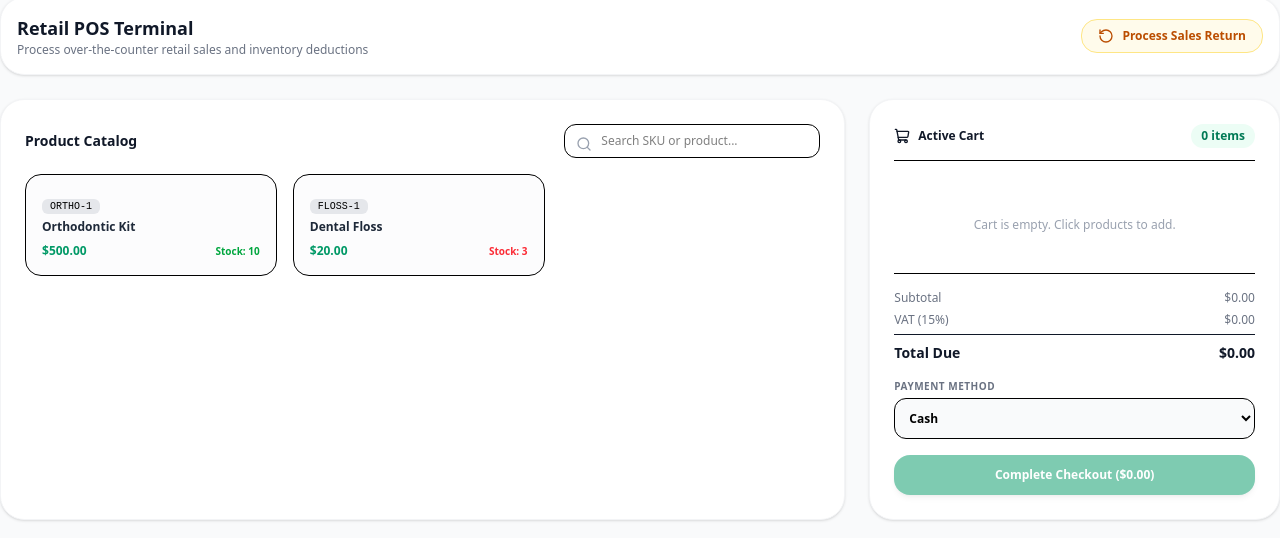
RetailPOSView (FR-SAL-001) › filters the catalog by search text
Expected: the heading "Orthodontic Kit" is shown, [42,218,135,235]
In the field with placeholder "Search SKU or product...": x=692, y=141 [564,124,820,158], type "floss"
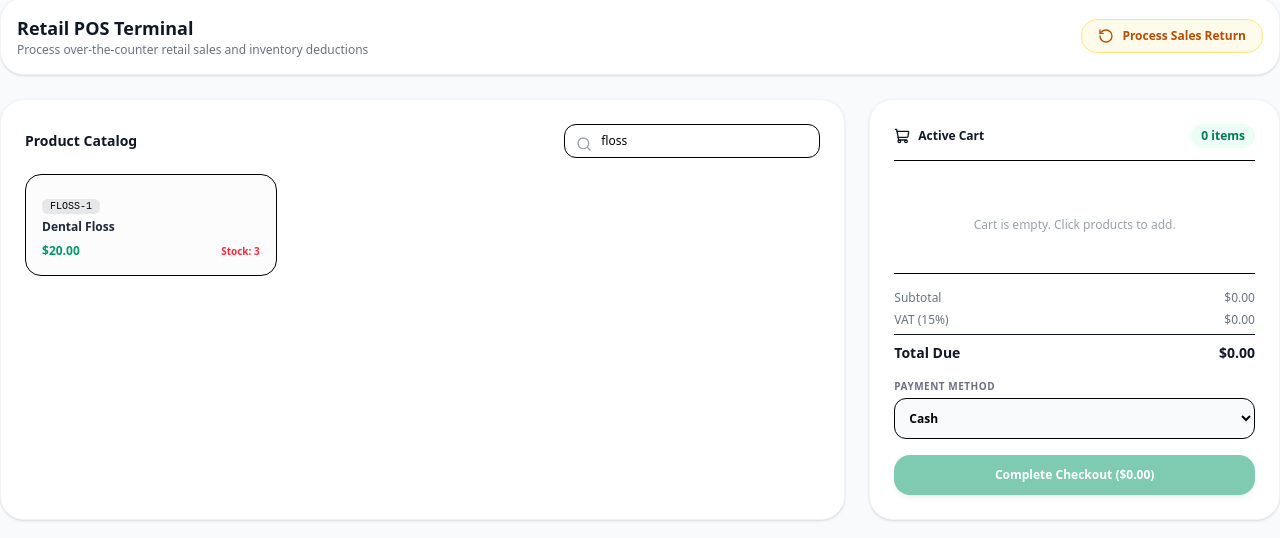
Expected: the heading "Dental Floss" is shown, [42,218,115,235]
Result: the heading "Orthodontic Kit" is gone
